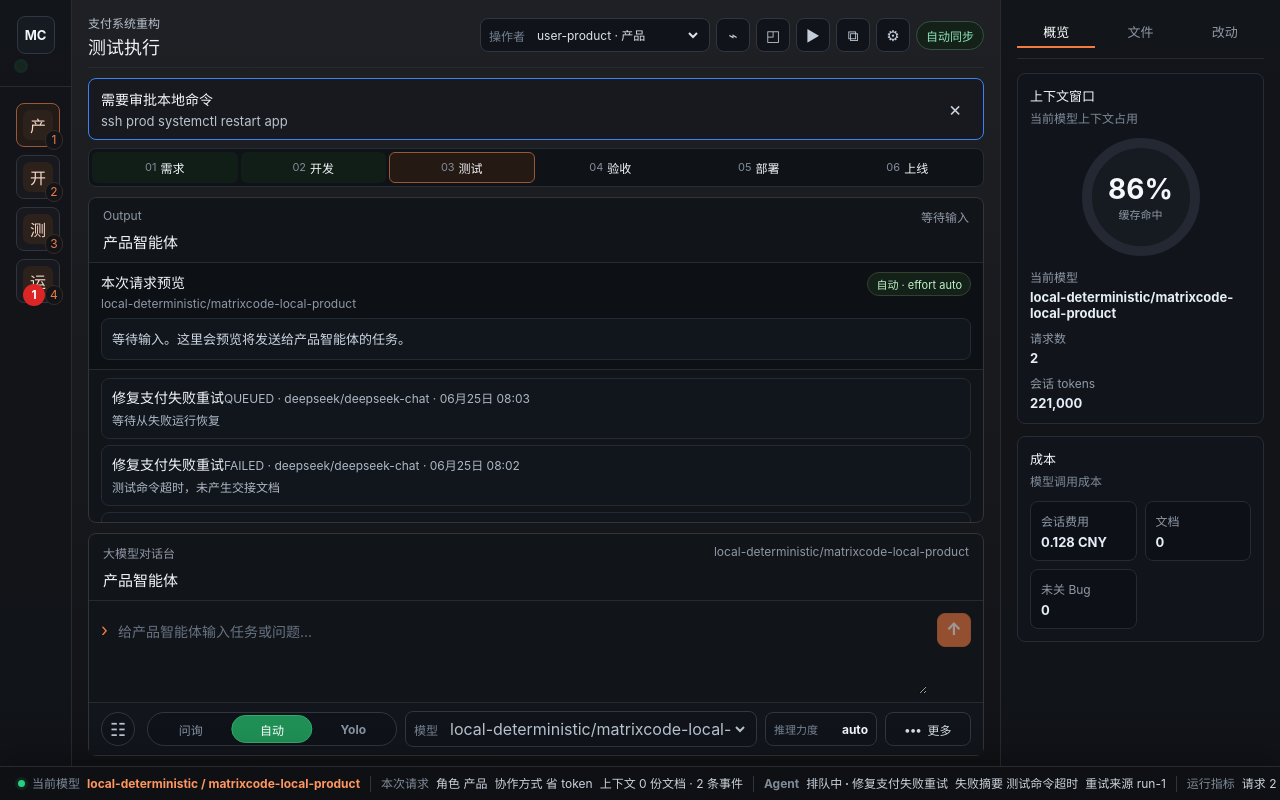
Test: MatrixCode 桌面工作台 › 运行中心可以把排队 Agent 运行认领为运行中
Check: the text "支付系统重构" is shown, box 88,16 -> 160,33
Click the button named "运行".
click(813, 35)  # box 796,18 -> 830,52
(page scrolled)
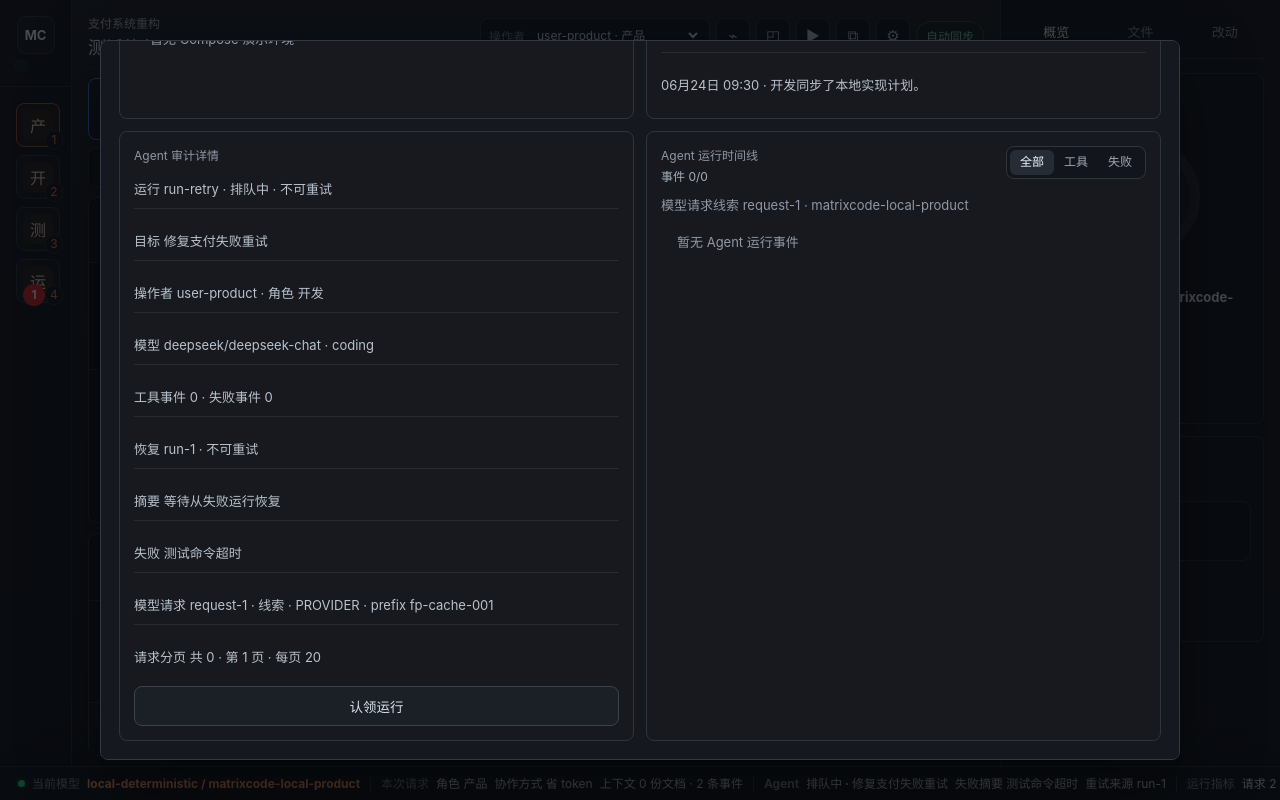
Click the button "认领运行".
click(376, 706)  # box 134,686 -> 619,726
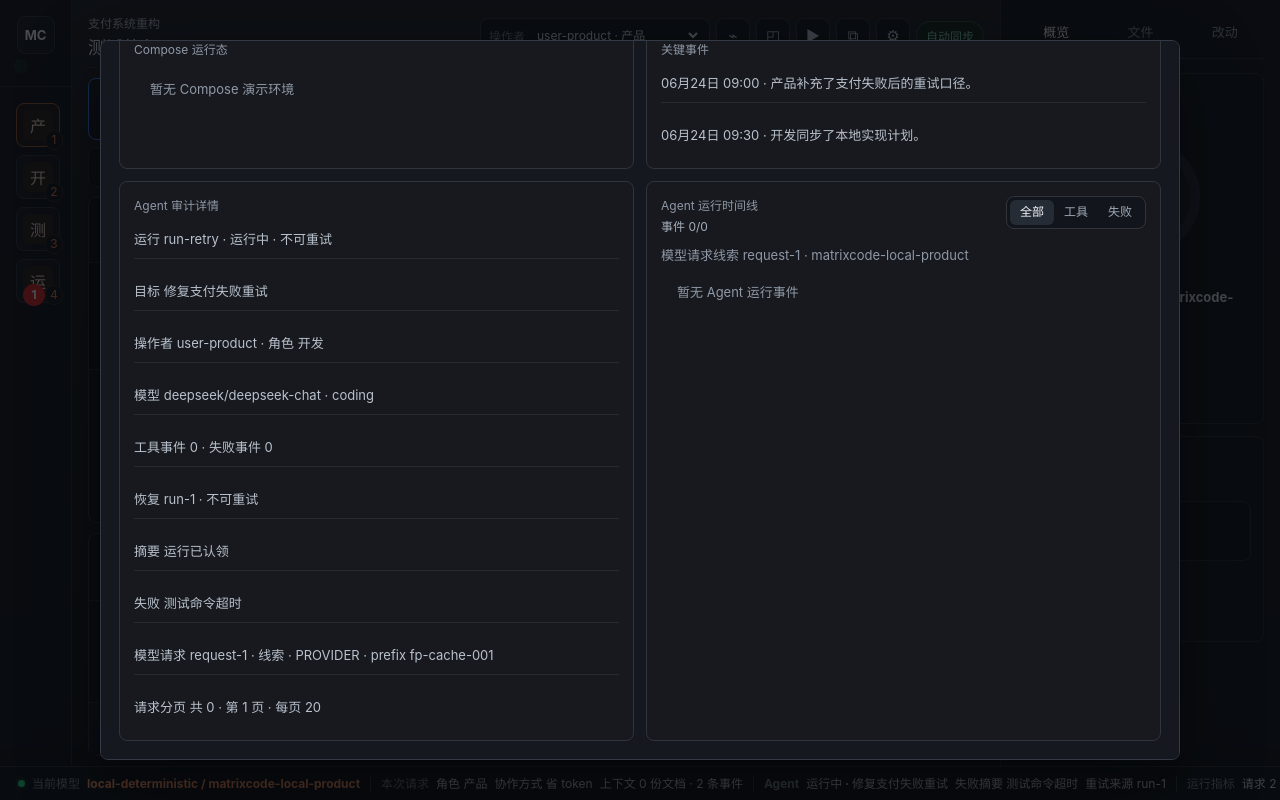
Check: the text "运行中 · 修复支付失败重试" is shown, box 806,778 -> 948,790
